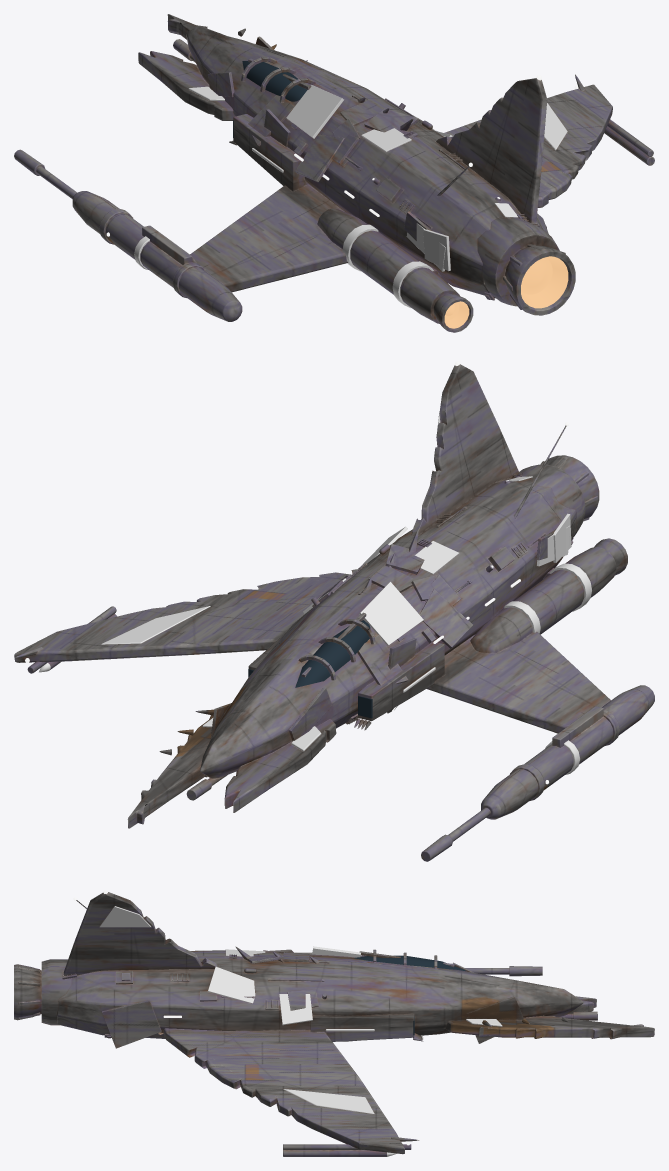
File: npc_raider.glb
The picture shows the model from 3 angles, top to bottom: view 1: azimuth 30°, elevation 25°; view 2: azimuth 150°, elevation 25°; view 3: azimuth 270°, elevation 25°; orthographic projection. The views are drawn at different scales.
Visible parts, largest first — view 1: Hull; view 2: Hull; view 3: Hull.
Boxes of the visible parts, left/top/right/bottom form: Hull: left=14, top=14, right=654, bottom=332; Hull: left=14, top=361, right=654, bottom=861; Hull: left=14, top=890, right=654, bottom=1156.
Bounding box in the file's own units: 15.1 × 6.8 × 20.97.
5 materials, 1 textured.
